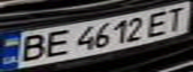1: (109, 17, 133, 45)
2: (124, 14, 151, 43)
4: (72, 24, 96, 53)
6: (93, 20, 115, 50)
B: (9, 31, 51, 64)
E: (39, 28, 75, 60), (142, 8, 175, 38)
T: (160, 3, 193, 32)
